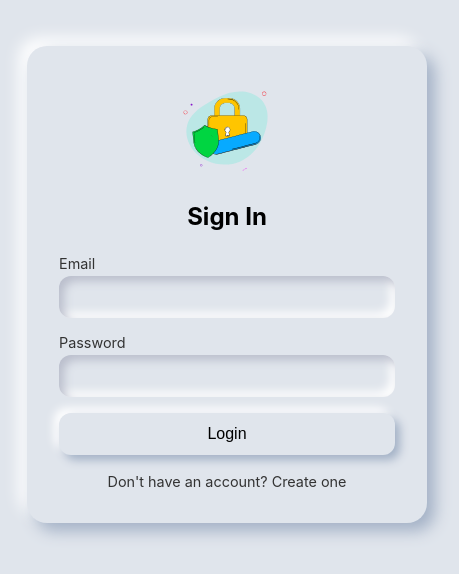
Scenario: Login Page › shows validation errors for empty fields
Click the submit button: (227, 434) [59, 413, 395, 455]
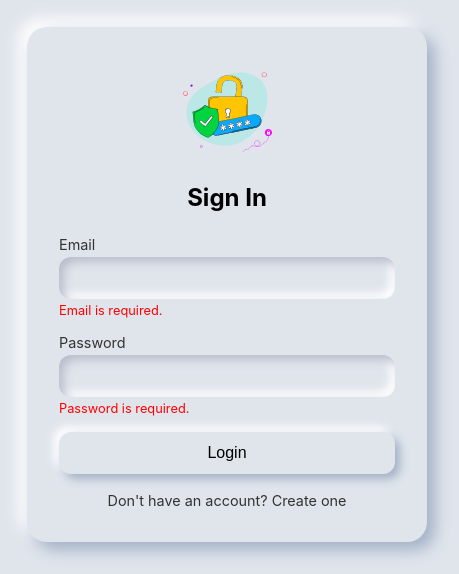
Expected: the text "Email is required." is shown, [59, 236, 395, 318]
Expected: the text "Password is required." is shown, [59, 334, 395, 416]
